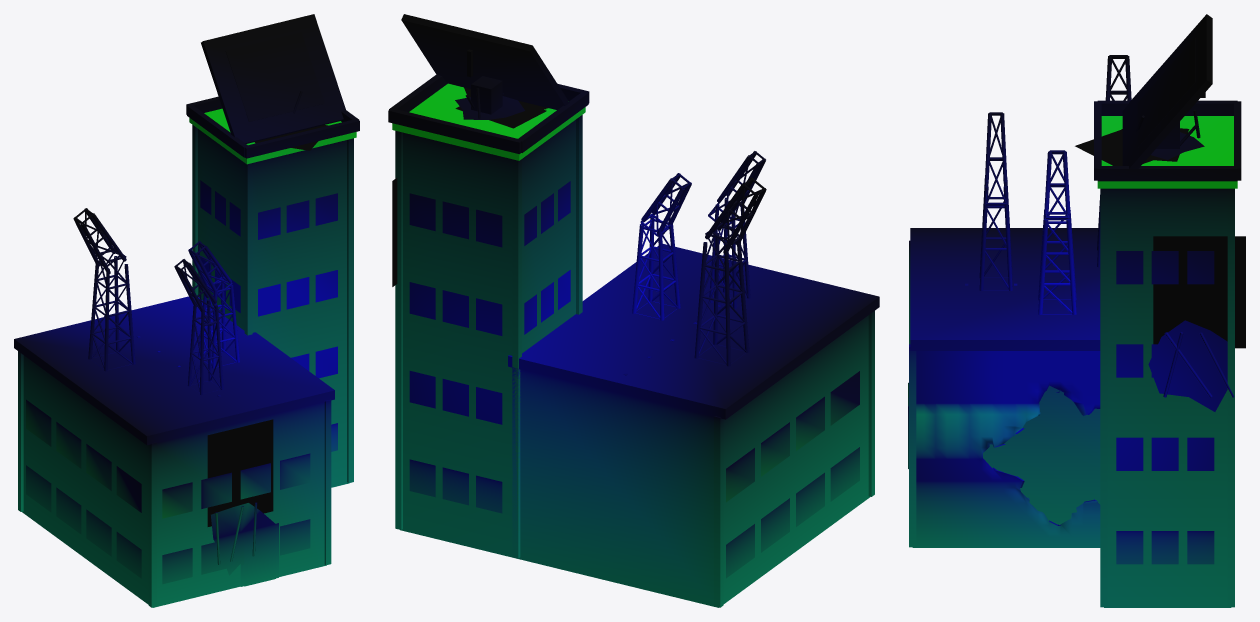
The model's file is s_sensorcontrol_damaged.glb.
3 views of the same model, side by side, from view 1: azimuth 30°, elevation 25°; view 2: azimuth 150°, elevation 25°; view 3: azimuth 270°, elevation 25° (orthographic). The views are drawn at different scales.
Parts seen in each view (by area): view 1: lod0; view 2: lod0; view 3: lod0.
Boxes of the visible parts, box(x1,y1,x2,y2) form: lod0: box(14, 14, 359, 607); lod0: box(388, 14, 879, 607); lod0: box(908, 14, 1245, 607).
Size of what is drawn, in the model's own units: 16.6 by 23.95 by 13.78.
